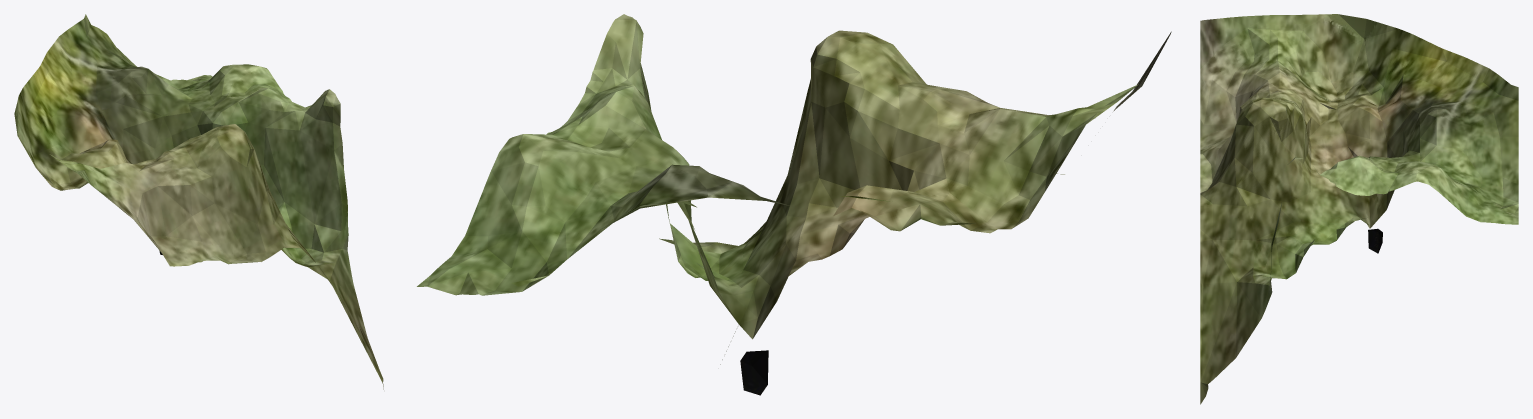
3 views of the same model, side by side, from view 1: azimuth 30°, elevation 25°; view 2: azimuth 150°, elevation 25°; view 3: azimuth 270°, elevation 25° (orthographic). The views are drawn at different scales.
Bounding box in the file's own units: 2.81 × 2.69 × 2.95.
Materials: 3 (3 with a texture image).
